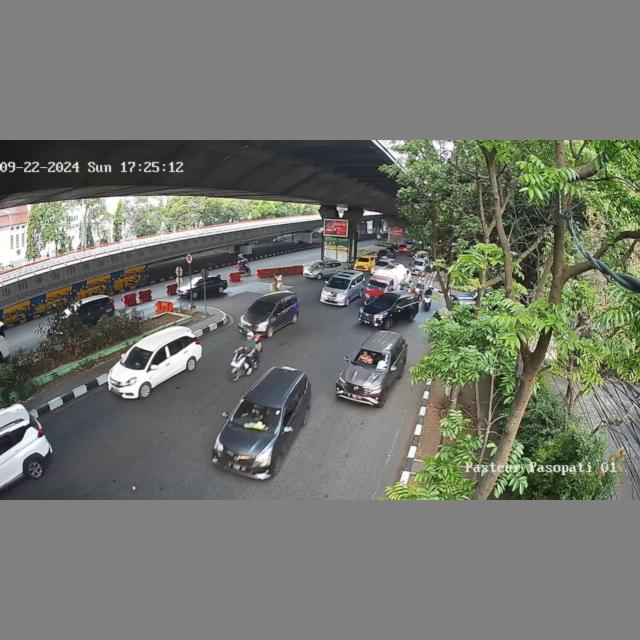windshield: (229, 399, 283, 434), (352, 347, 389, 371), (123, 347, 153, 368), (247, 299, 275, 316), (327, 277, 350, 289)
